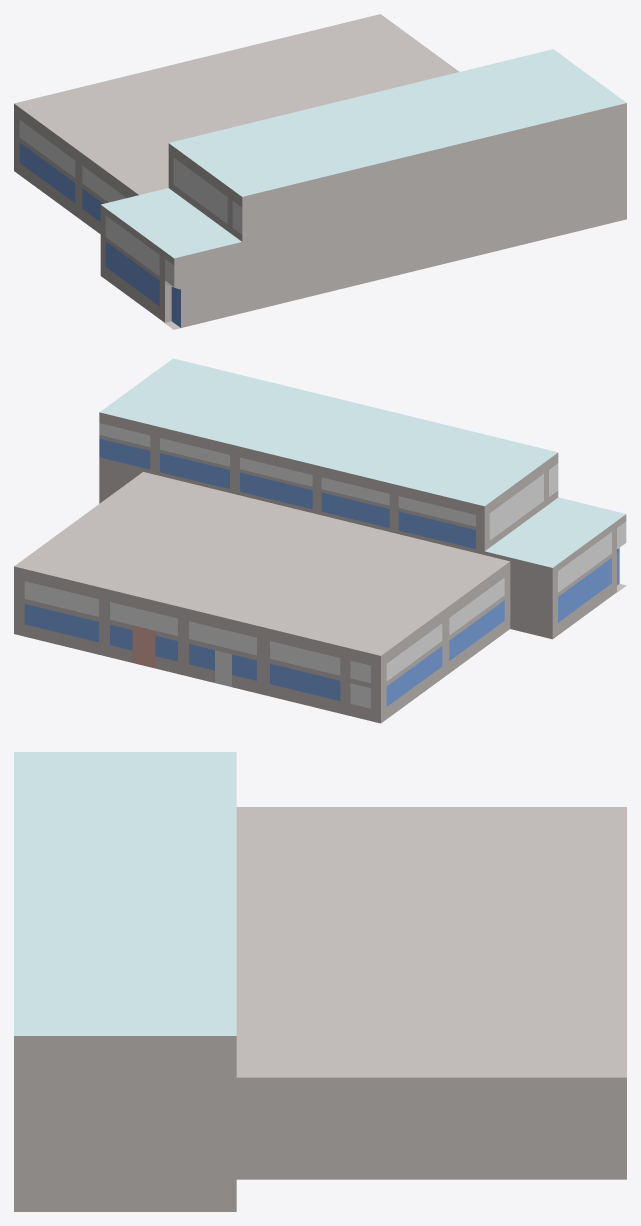
Rendered from kentiku.glb.
3 views of the same model, one above another, from view 1: azimuth 30°, elevation 25°; view 2: azimuth 150°, elevation 25°; view 3: azimuth 270°, elevation 25° (orthographic). The views are drawn at different scales.
Parts seen in each view (by area): view 1: 立方体.021, 立方体.003; view 2: 立方体.003, 立方体.021; view 3: 立方体.003, 立方体.021.
Boxes of the visible parts, <box> form: 立方体.021: <box>100,49,626,329</box>; 立方体.003: <box>14,14,459,233</box>; 立方体.003: <box>14,472,510,723</box>; 立方体.021: <box>99,358,626,639</box>; 立方体.003: <box>236,807,626,1179</box>; 立方体.021: <box>14,752,236,1211</box>.
Bounding box in the file's own units: 10.9 × 2.67 × 8.44.
Materials: 1 (1 with a texture image).
